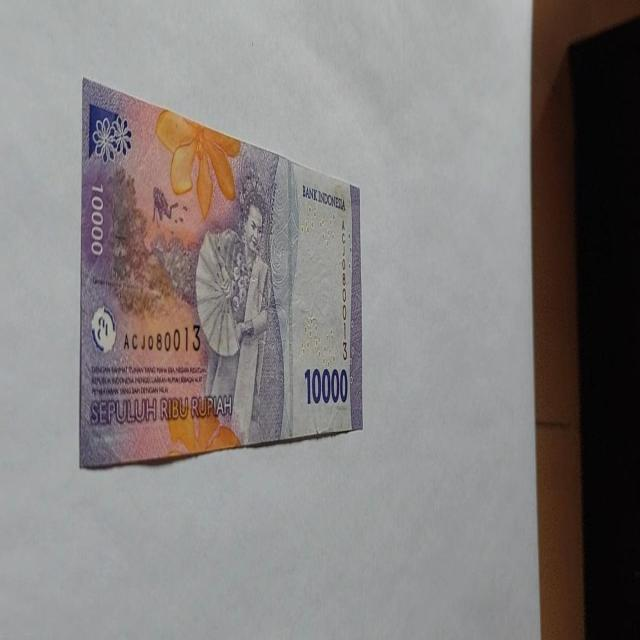Kertas: (79, 76, 363, 470)
